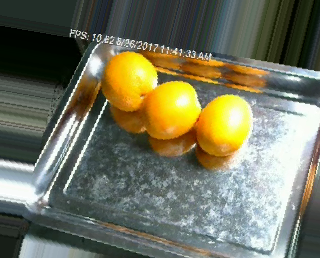Orange: (195, 93, 255, 156), (142, 81, 202, 140), (102, 50, 158, 111)
